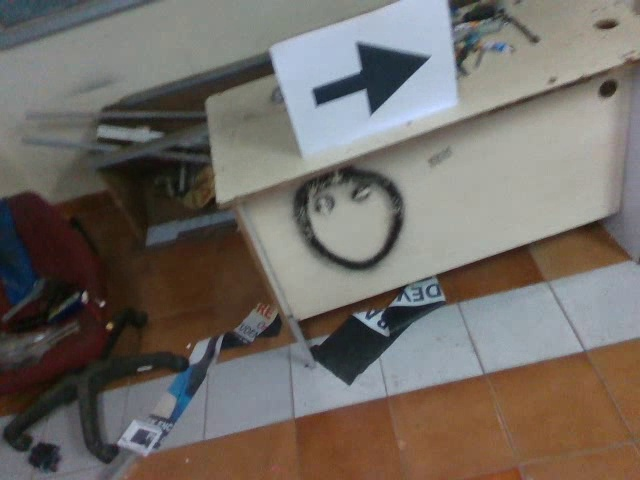Right: (300, 35, 434, 118)
